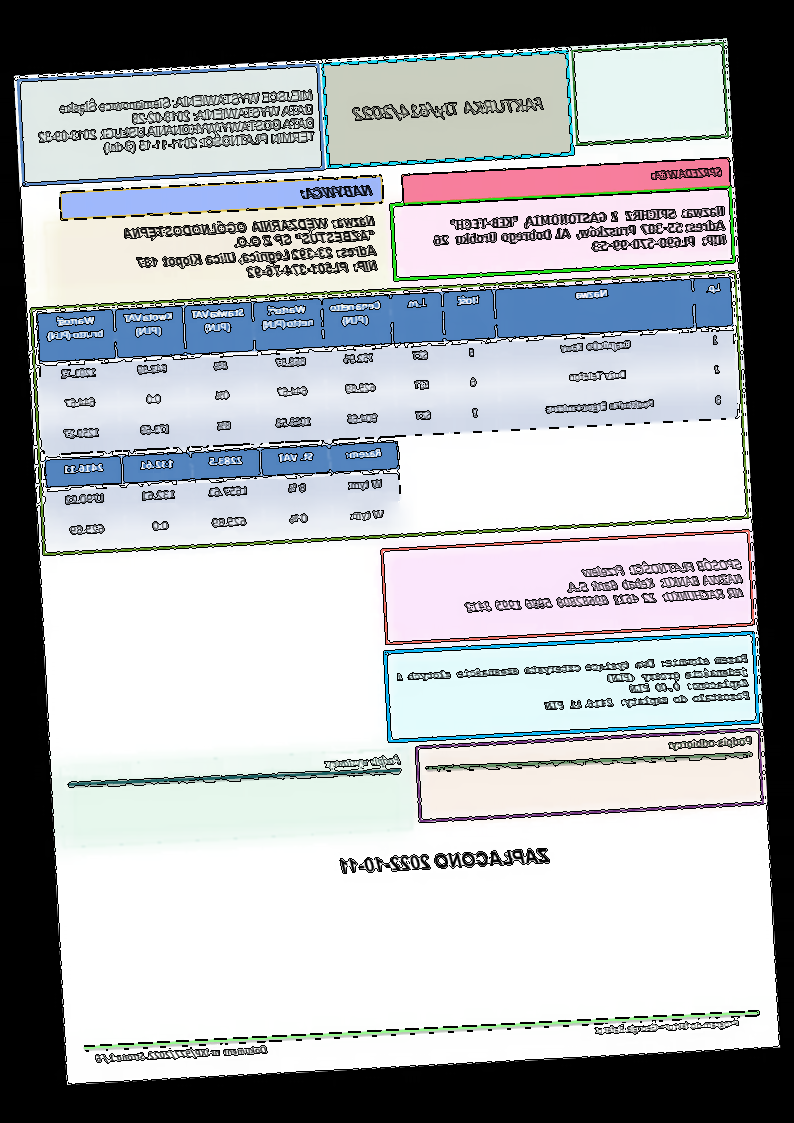Table: (36, 275, 740, 455), (43, 439, 404, 551)
TextBox: (396, 653, 751, 720), (35, 87, 318, 161), (122, 212, 380, 285), (432, 203, 728, 263), (462, 555, 747, 614), (338, 844, 553, 876), (352, 95, 547, 124), (95, 1044, 270, 1065), (593, 1017, 741, 1037), (667, 733, 755, 753), (323, 751, 404, 772), (649, 164, 726, 184), (299, 182, 375, 201)
